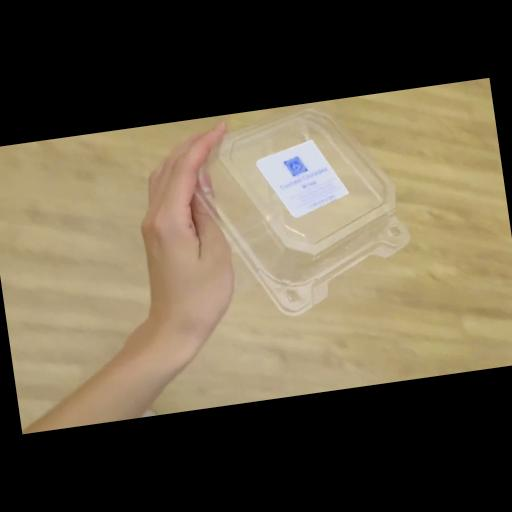lp_paper_cup: (188, 96, 420, 330)
